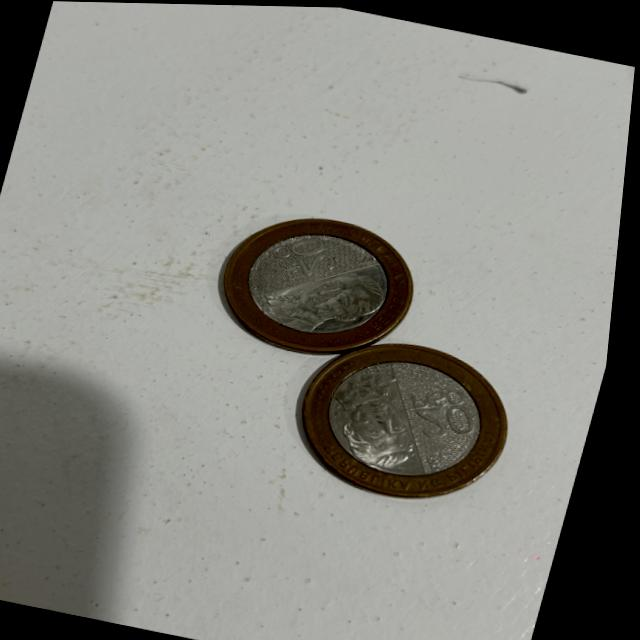20_New_Front: (262, 223, 348, 284), (411, 377, 488, 444)
